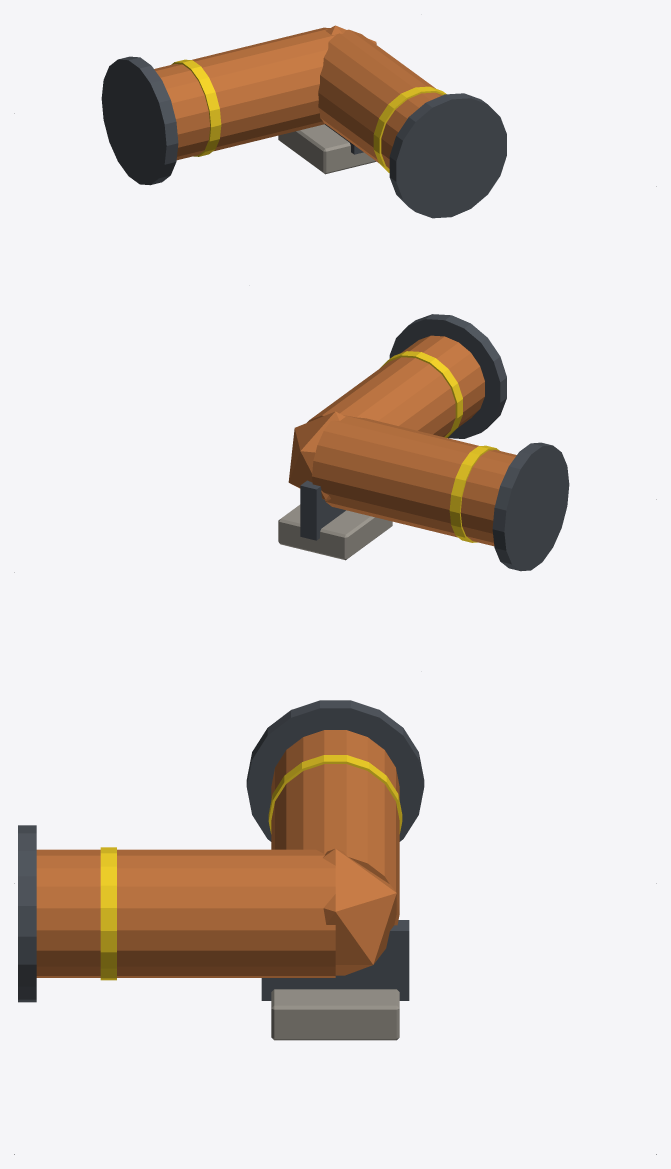
File: tuyau_coude_t1.glb
3 renders of one model, top to bottom at view 1: azimuth 30°, elevation 25°; view 2: azimuth 150°, elevation 25°; view 3: azimuth 270°, elevation 25°, orthographic. The views are drawn at different scales.
Visible parts, largest first — view 1: pieces_cuivre.020, pieces_acier_sombre.050, pieces_beton.030, pieces_rive_t1.016; view 2: pieces_cuivre.020, pieces_acier_sombre.050, pieces_beton.030, pieces_rive_t1.016; view 3: pieces_cuivre.020, pieces_acier_sombre.050, pieces_beton.030, pieces_rive_t1.016.
Boxes of the visible parts, x1=… form: pieces_cuivre.020: x1=154, y1=25, x2=442, y2=168; pieces_acier_sombre.050: x1=101, y1=56, x2=506, y2=218; pieces_beton.030: x1=278, y1=124, x2=376, y2=174; pieces_rive_t1.016: x1=171, y1=59, x2=446, y2=172; pieces_cuivre.020: x1=288, y1=335, x2=516, y2=546; pieces_acier_sombre.050: x1=300, y1=314, x2=569, y2=571; pieces_beton.030: x1=278, y1=504, x2=392, y2=560; pieces_rive_t1.016: x1=380, y1=351, x2=499, y2=542; pieces_cuivre.020: x1=36, y1=730, x2=399, y2=977; pieces_acier_sombre.050: x1=18, y1=700, x2=424, y2=1002; pieces_beton.030: x1=271, y1=989, x2=399, y2=1040; pieces_rive_t1.016: x1=100, y1=755, x2=402, y2=980.
Bounding box in the file's own units: 1 × 0.318 × 1.
